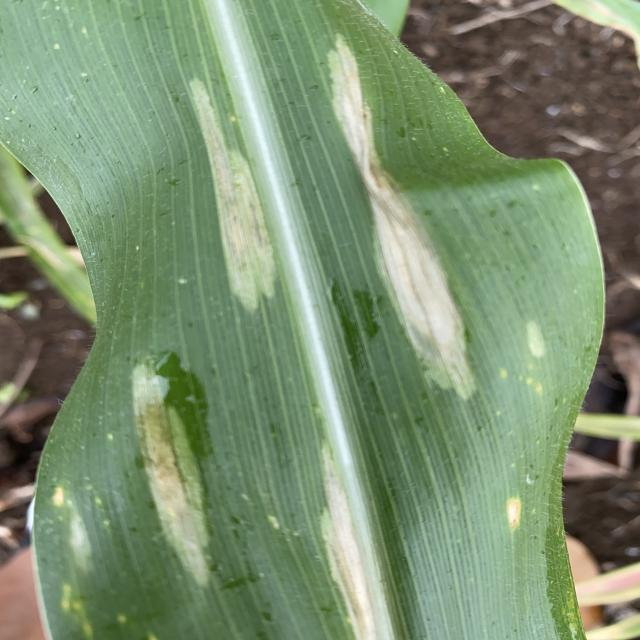Corn_Leaf_Blight: (34, 18, 606, 640)
